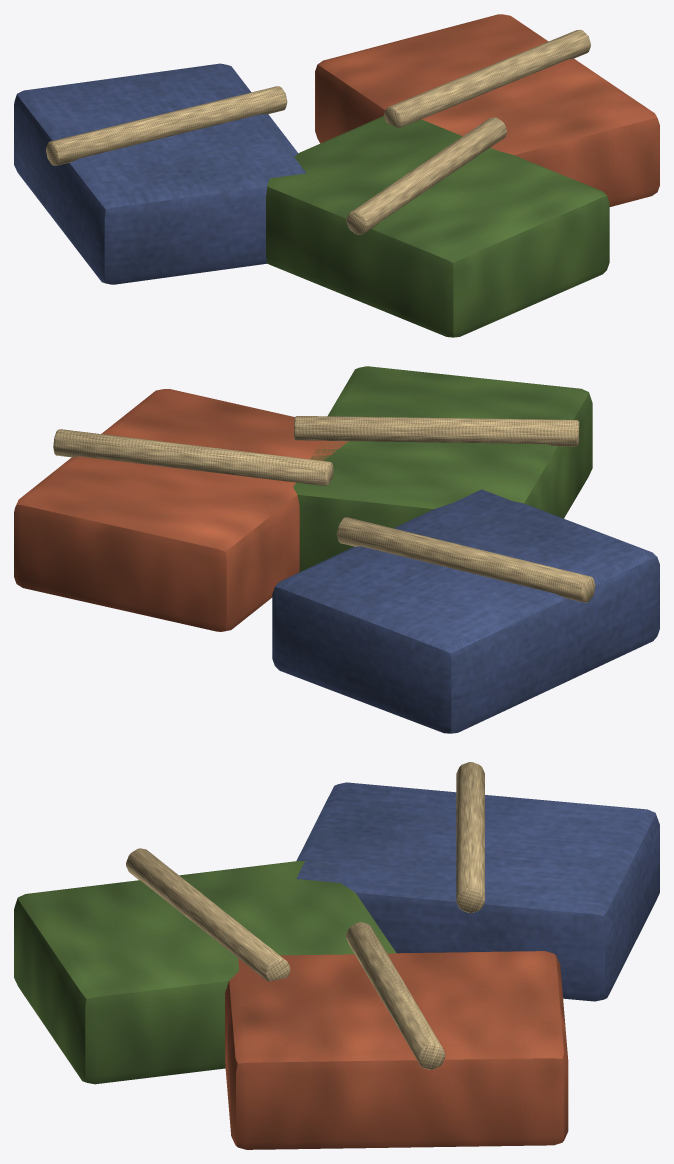
File: dye_palette_future.glb
3 renders of one model, top to bottom at view 1: azimuth 30°, elevation 25°; view 2: azimuth 150°, elevation 25°; view 3: azimuth 270°, elevation 25°, orthographic. The views are drawn at different scales.
Parts seen in each view (by area): view 1: pigment_packets; view 2: pigment_packets; view 3: pigment_packets.
Boxes of the visible parts, <box> form: pigment_packets: <box>14,14,659,337</box>; pigment_packets: <box>14,366,659,733</box>; pigment_packets: <box>14,762,659,1149</box>.
Size of the model in its own units: 0.1824 by 0.0338 by 0.1723.
4 materials, 4 textured.
